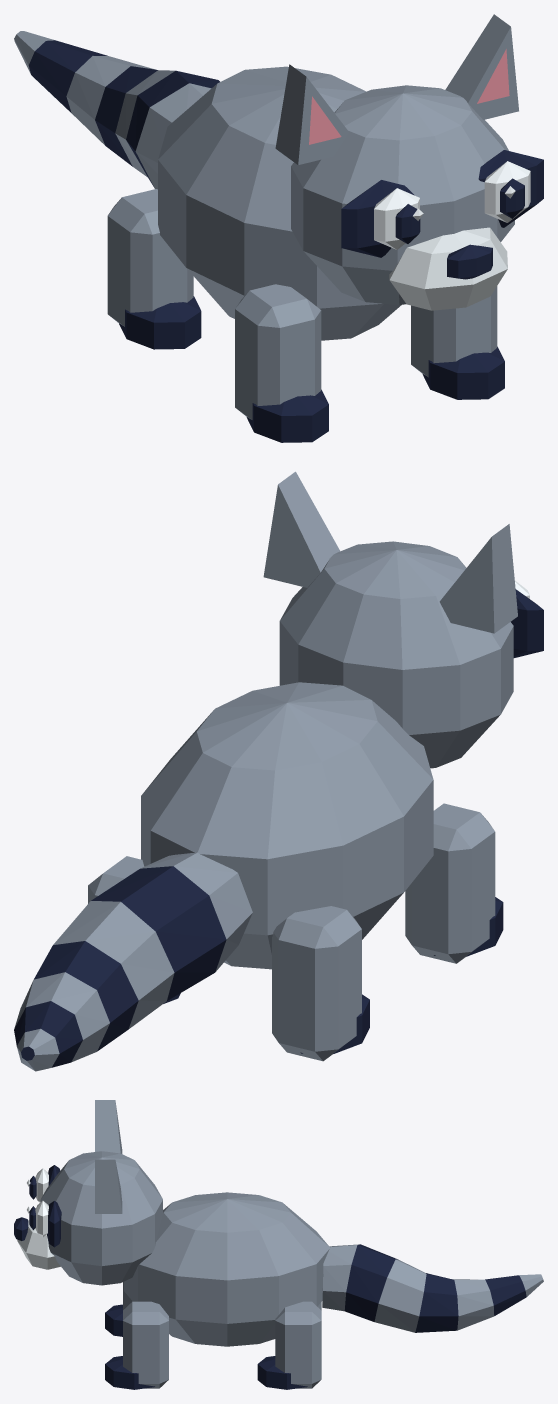
The model's file is C01_raccoon.glb.
3 views of the same model, one above another, from view 1: azimuth 30°, elevation 25°; view 2: azimuth 150°, elevation 25°; view 3: azimuth 270°, elevation 25° (orthographic). The views are drawn at different scales.
Parts seen in each view (by area): view 1: Head, Body, Tail, Leg_FR, Leg_BR, Leg_FL, Ear_L, Ear_R; view 2: Body, Head, Tail, Leg_BR, Leg_FR, Ear_L, Ear_R, Leg_BL; view 3: Body, Head, Tail, Leg_FL, Leg_BL, Ear_L, Ear_R, Leg_FR.
Part boxes in pixels (x1,y1,x2,y2): Head: [291, 85, 543, 310]; Body: [158, 66, 401, 340]; Tail: [14, 31, 219, 189]; Leg_FR: [235, 284, 328, 442]; Leg_BR: [107, 189, 201, 349]; Leg_FL: [411, 286, 504, 399]; Ear_L: [445, 14, 518, 119]; Ear_R: [275, 64, 349, 165]; Body: [141, 682, 433, 969]; Head: [279, 541, 543, 768]; Tail: [14, 852, 252, 1071]; Leg_BR: [272, 906, 369, 1061]; Leg_FR: [405, 803, 503, 963]; Ear_L: [263, 471, 339, 587]; Ear_R: [439, 524, 517, 633]; Leg_BL: [88, 856, 180, 1003]; Body: [124, 1192, 329, 1346]; Head: [14, 1151, 162, 1285]; Tail: [322, 1244, 543, 1332]; Leg_FL: [105, 1301, 168, 1389]; Leg_BL: [257, 1301, 321, 1389]; Ear_L: [95, 1159, 122, 1213]; Ear_R: [95, 1100, 122, 1153]; Leg_FR: [105, 1282, 132, 1336].
Bounding box in the file's own units: 0.2378 × 0.363 × 0.75.
